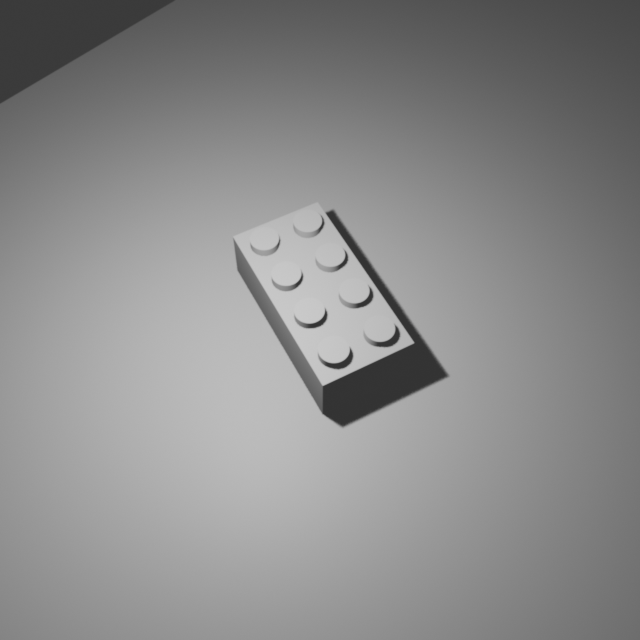lego_2x4: (232, 196, 415, 415)
